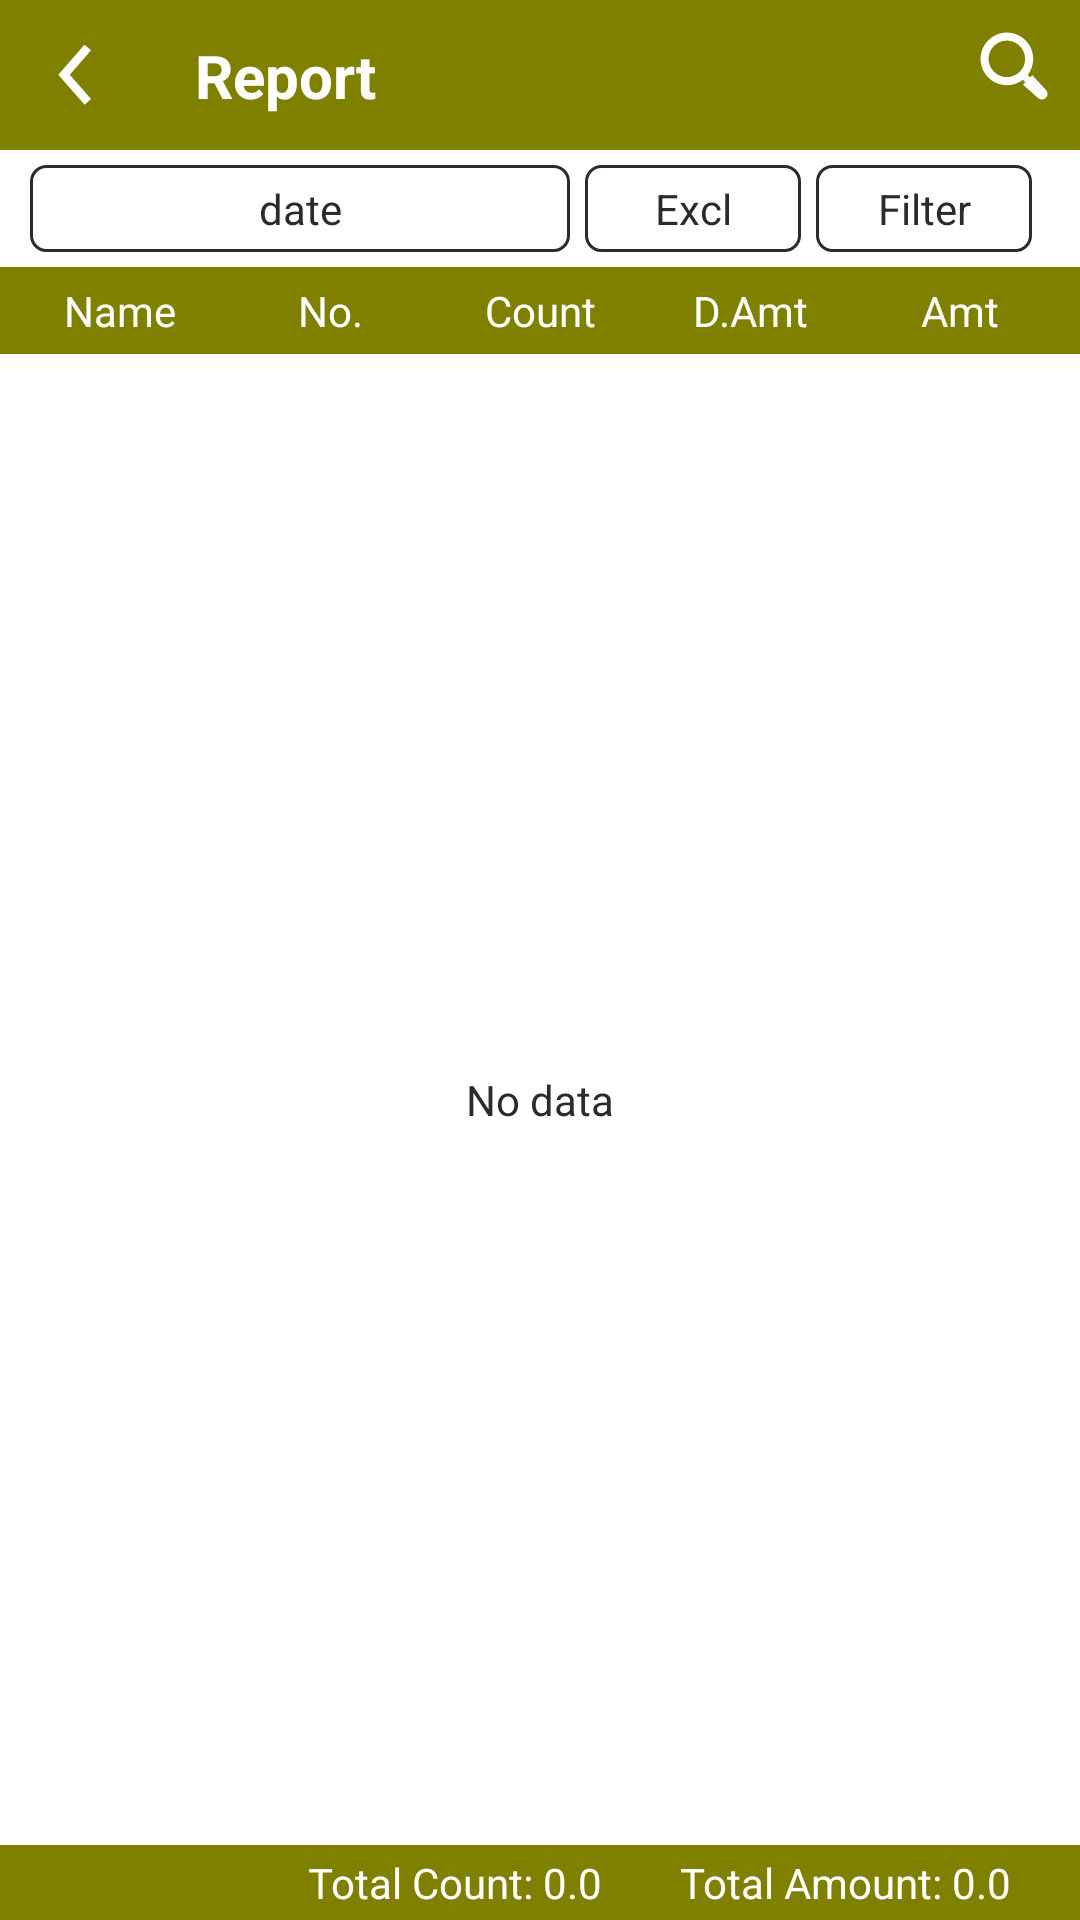

Icons on this 1080×1920 Android screen, each with its box as (x1, y1, x2, y2):
left arrow: (58, 45, 91, 105)
search: (980, 32, 1048, 100)
